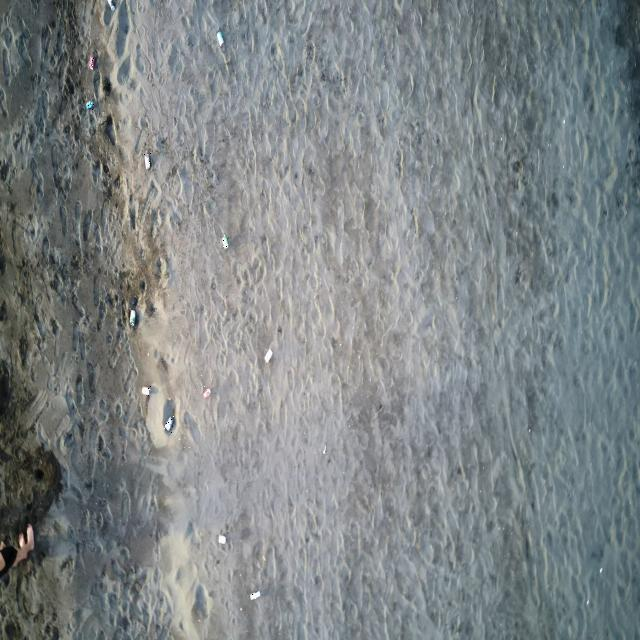tin-and-aluminum-cans: (164, 415, 174, 434), (264, 348, 273, 363), (144, 153, 151, 170), (129, 310, 136, 326), (204, 386, 212, 400), (250, 590, 261, 600), (216, 31, 223, 46), (222, 235, 229, 249), (142, 386, 151, 396), (89, 55, 95, 70), (218, 534, 226, 544), (86, 100, 94, 110)
